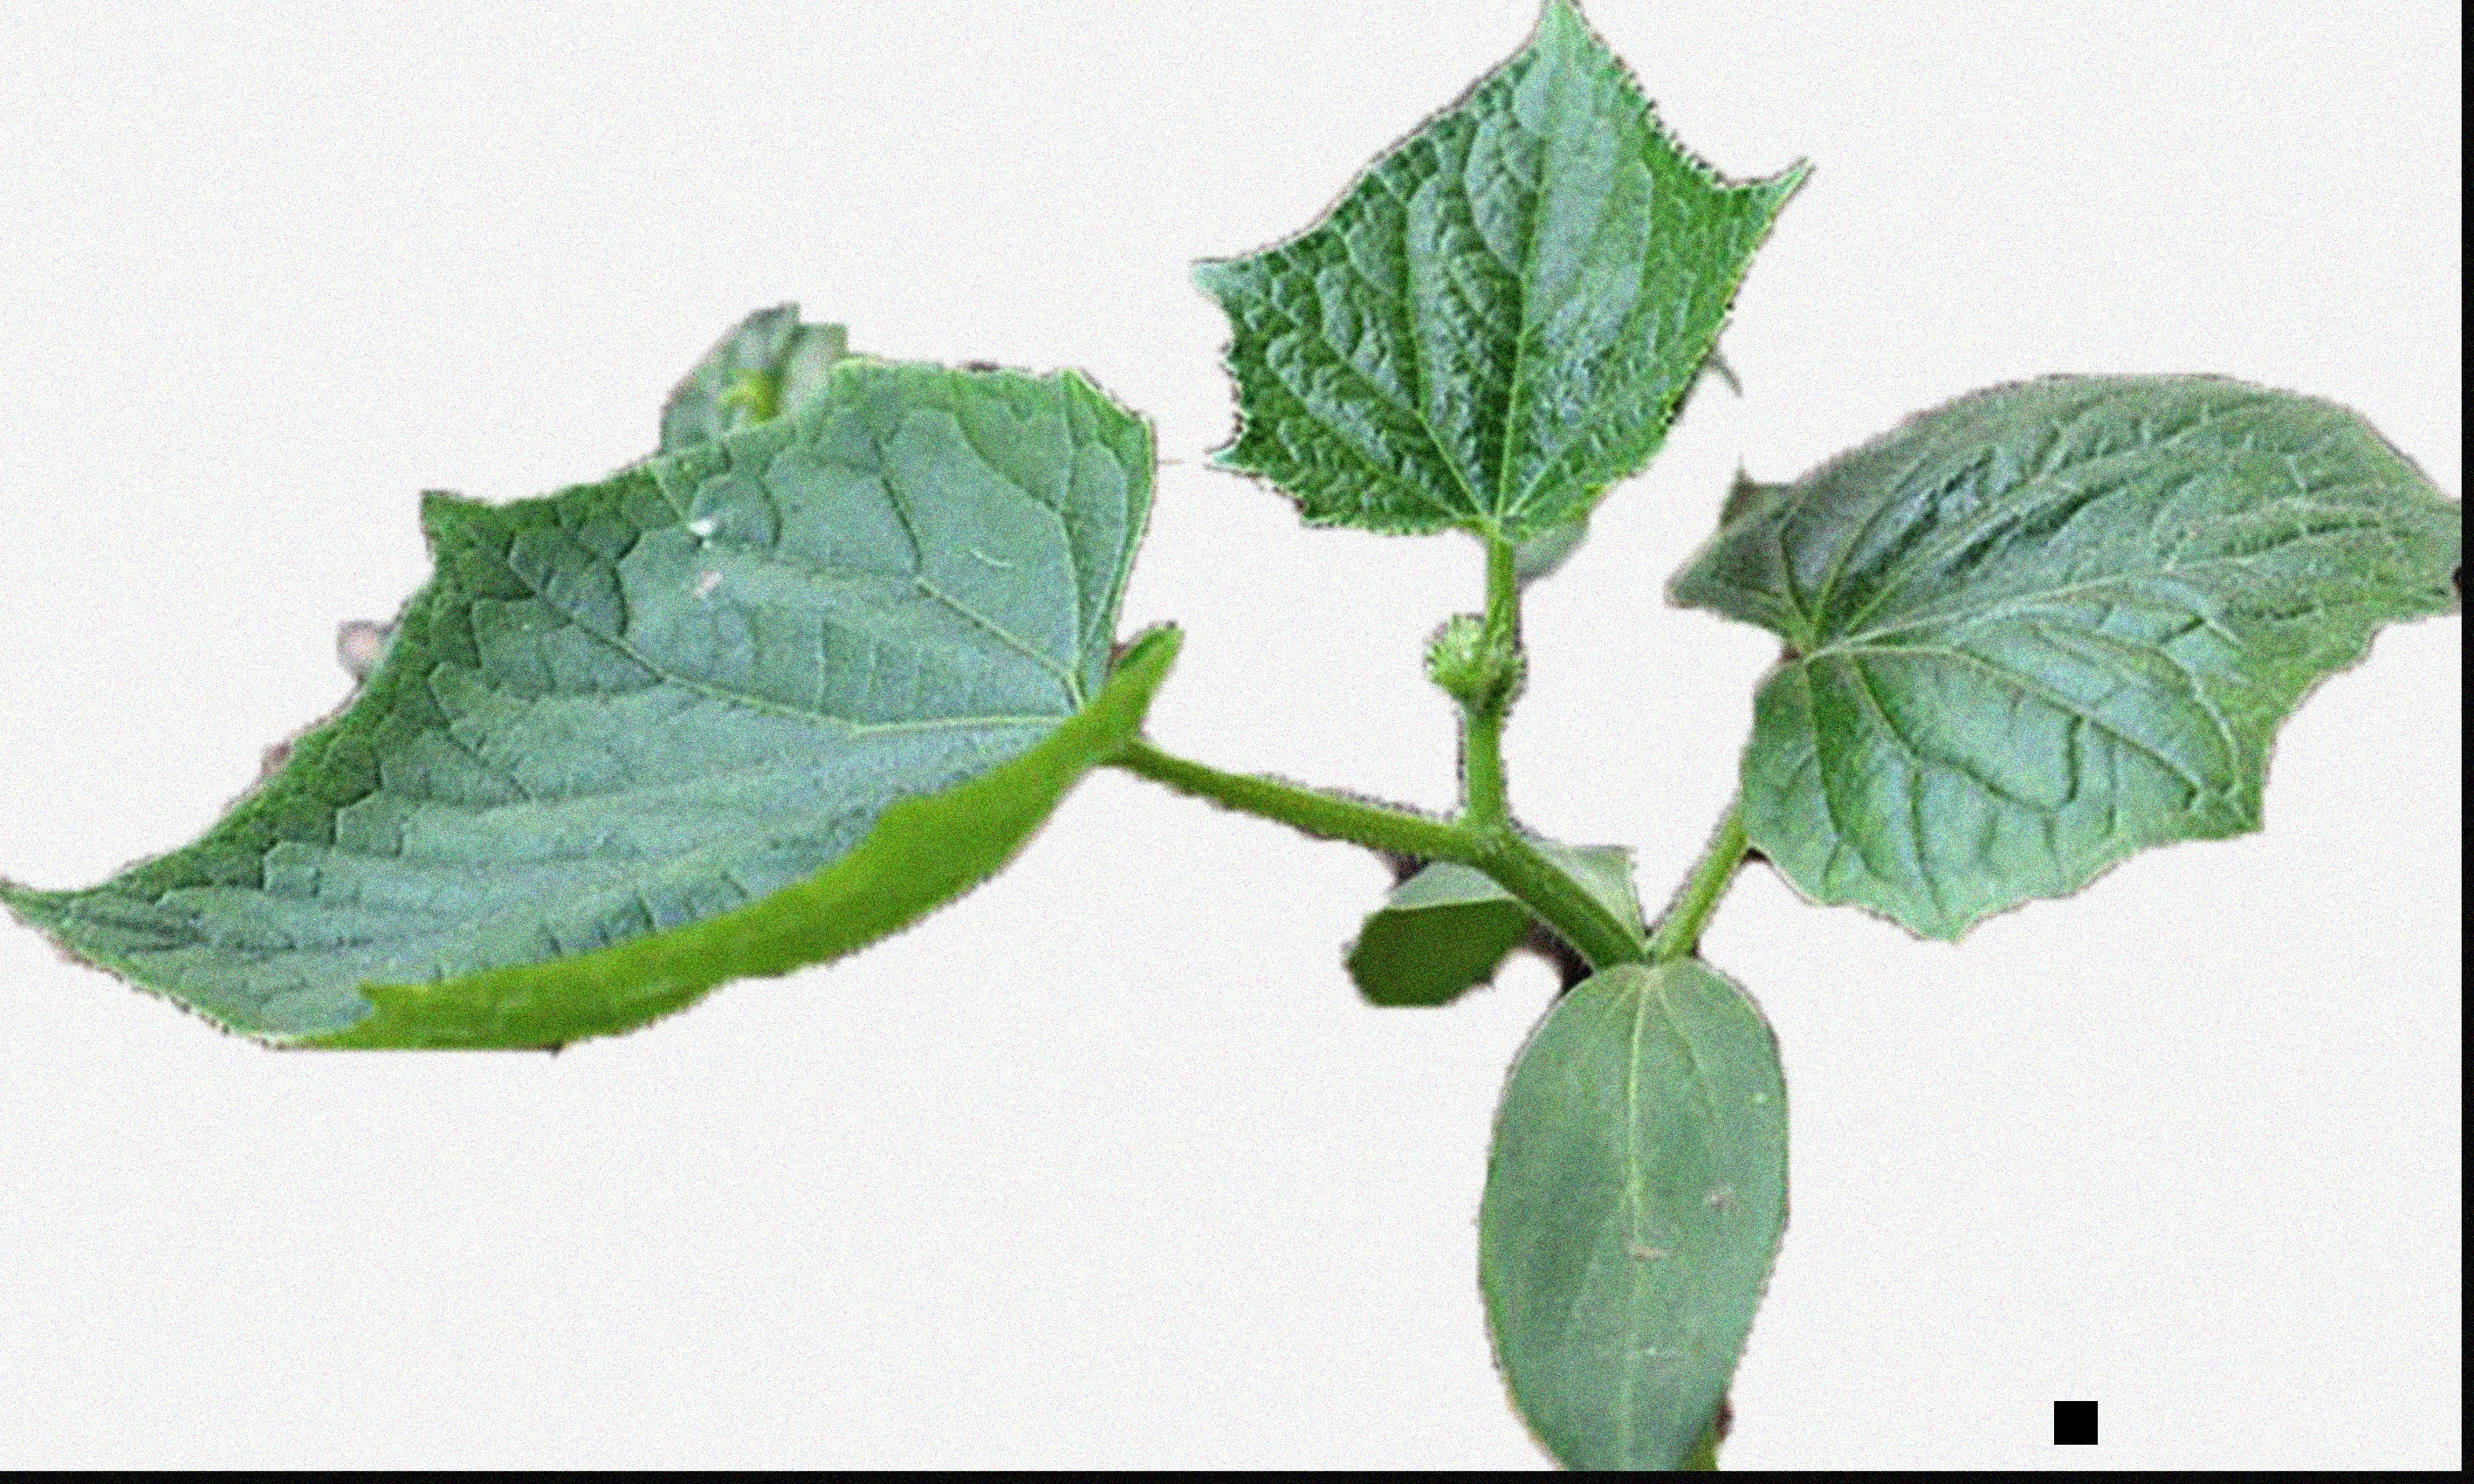cucumber_plant: (25, 53, 2456, 1041)
